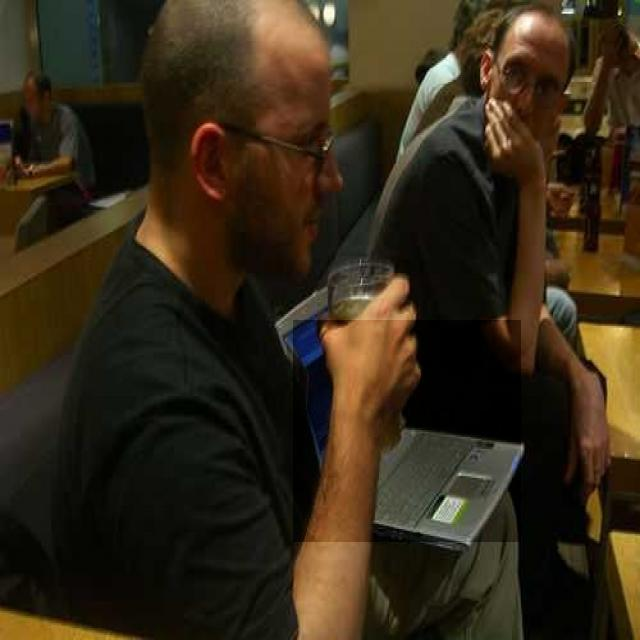-keyboard-: (293, 320, 521, 542)
